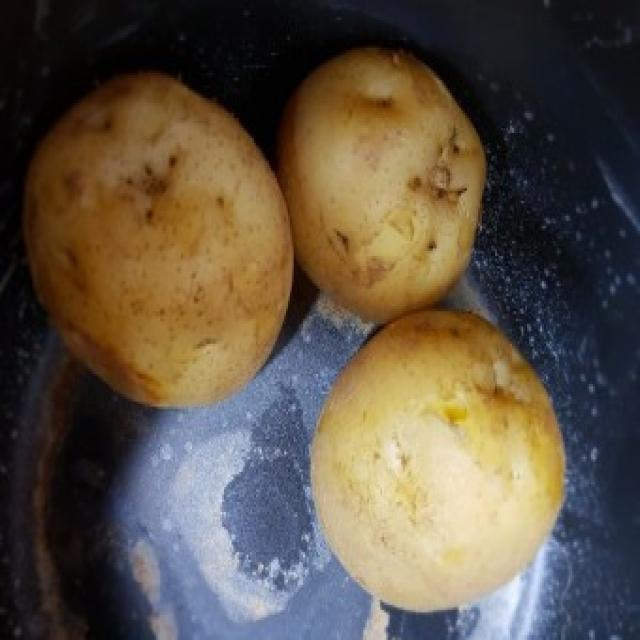potato: (18, 63, 296, 414), (309, 302, 568, 614), (282, 39, 488, 326)
